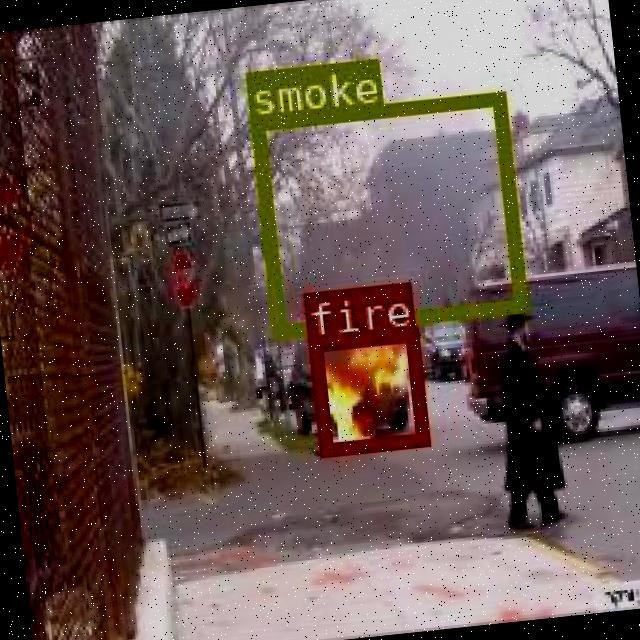fire: (306, 326, 426, 454)
smoke: (248, 91, 524, 336)
